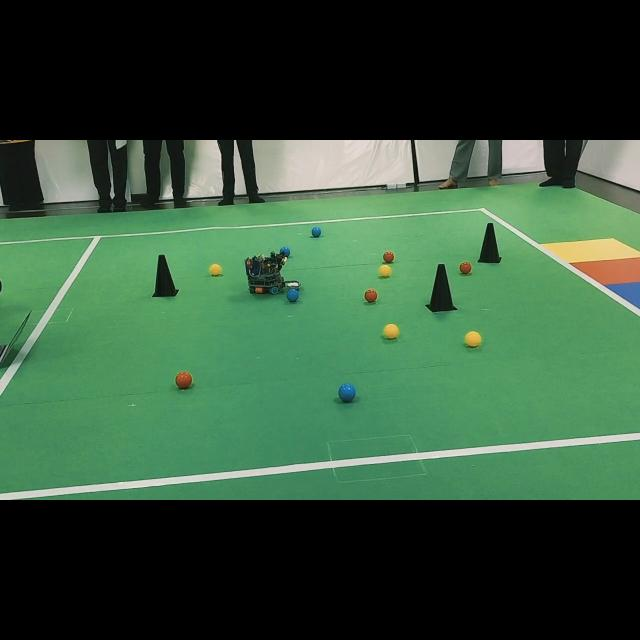ball: (339, 384, 356, 402), (175, 371, 192, 389), (465, 331, 481, 348), (384, 324, 399, 339), (364, 289, 378, 302), (459, 261, 472, 275), (286, 289, 299, 302), (379, 265, 391, 278), (210, 264, 222, 276), (382, 251, 395, 262), (280, 246, 291, 258), (311, 226, 321, 238)
goal: (541, 239, 640, 264), (572, 258, 640, 285), (606, 282, 640, 308)
